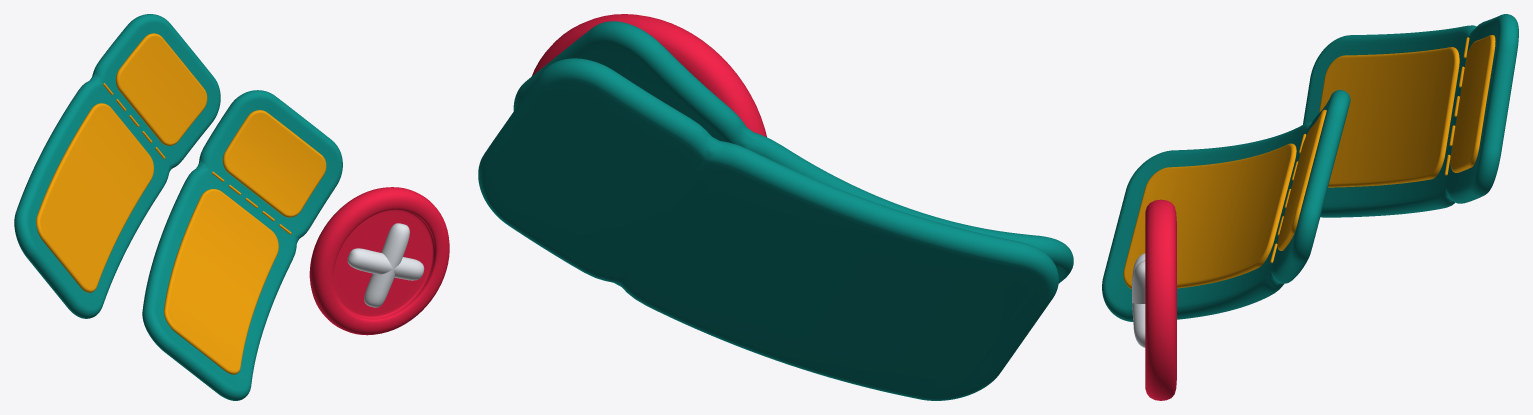
Rendered from empty-ticket-3d-animated-icon-684865161463.glb.
The picture shows the model from 3 angles, left to right: view 1: azimuth 30°, elevation 25°; view 2: azimuth 150°, elevation 25°; view 3: azimuth 270°, elevation 25°; orthographic projection. The views are drawn at different scales.
Visible parts, largest first — view 1: PAPER_003, PAPER_003.001, X SIGN, X.001; view 2: PAPER_003.001, PAPER_003, X SIGN; view 3: PAPER_003.001, PAPER_003, X SIGN, X.001, Cylinder.001.
Boxes of the visible parts, x1,y1,x2,y2 form: PAPER_003: (142,90,342,400); PAPER_003.001: (14,14,220,318); X SIGN: (309,187,449,335); X.001: (347,223,424,307); PAPER_003.001: (478,58,1058,400); PAPER_003: (513,21,1073,283); X SIGN: (532,14,766,137); PAPER_003.001: (1303,14,1518,217); PAPER_003: (1102,90,1350,321); X SIGN: (1145,199,1176,400); X.001: (1132,253,1145,347); Cylinder.001: (1444,37,1469,175).
Bounding box in the file's own units: 0.7331 × 0.4999 × 0.5659.
